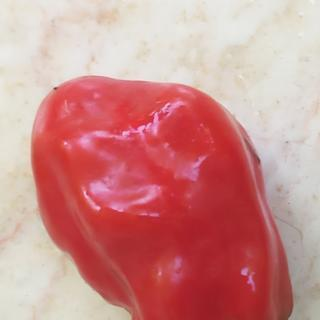Grade-A: (26, 67, 293, 316)
